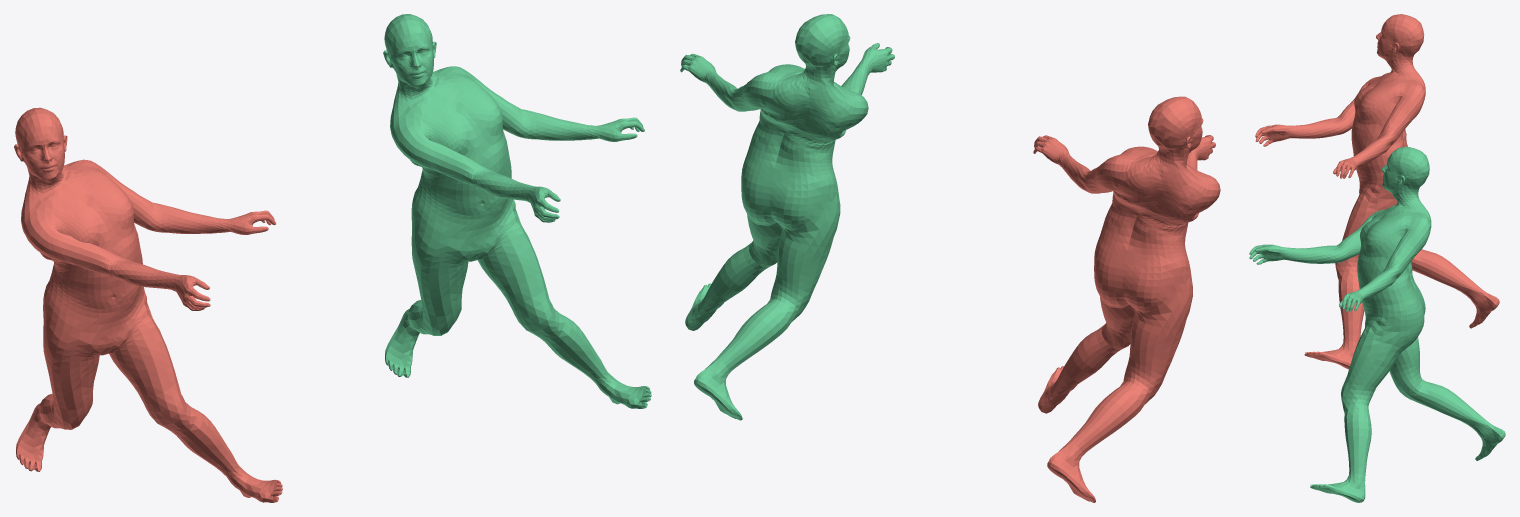
File: pose_160_before_after.glb
The picture shows the model from 3 angles, left to right: view 1: azimuth 30°, elevation 25°; view 2: azimuth 150°, elevation 25°; view 3: azimuth 270°, elevation 25°; orthographic projection. The views are drawn at different scales.
Parts seen in each view (by area): view 1: input_red, poseshield_green; view 2: poseshield_green, input_red; view 3: poseshield_green, input_red.
Part boxes in pixels (x1,y1,x2,y2): input_red: (14,107,282,502); poseshield_green: (383,14,651,408); poseshield_green: (680,14,894,420); input_red: (1033,96,1220,502); poseshield_green: (1249,146,1505,502); input_red: (1255,14,1499,369).
Size of what is drawn, in the model's own units: 2.29 by 1.5 by 1.18.
